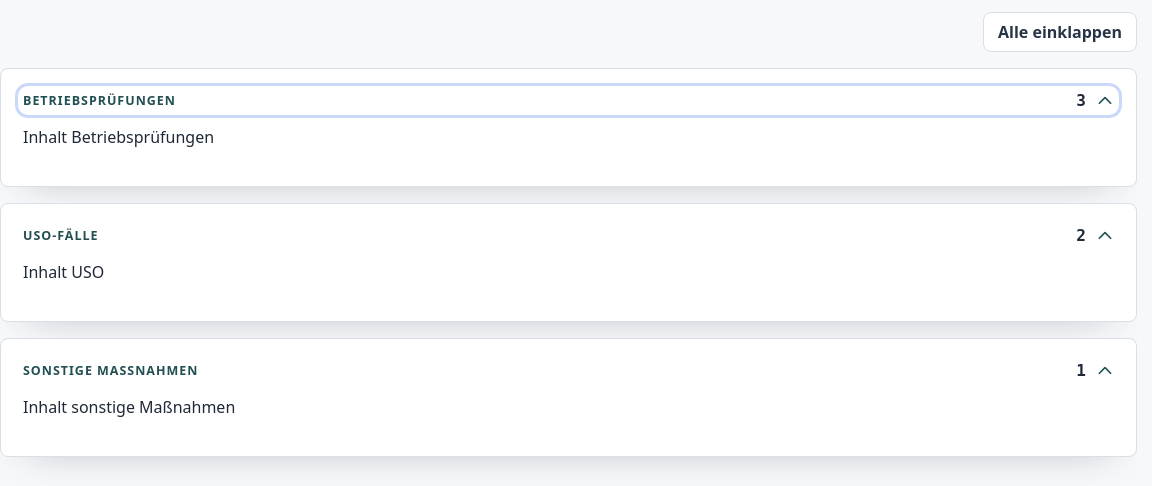
Scenario: CollapsiblePointLists › toggles one list by pointer and keyboard-generated activation while its heading remains visible
Click the button with aria-label "Betriebsprüfungen einklappen" at x=99, y=100, box [23,91,1114,110]
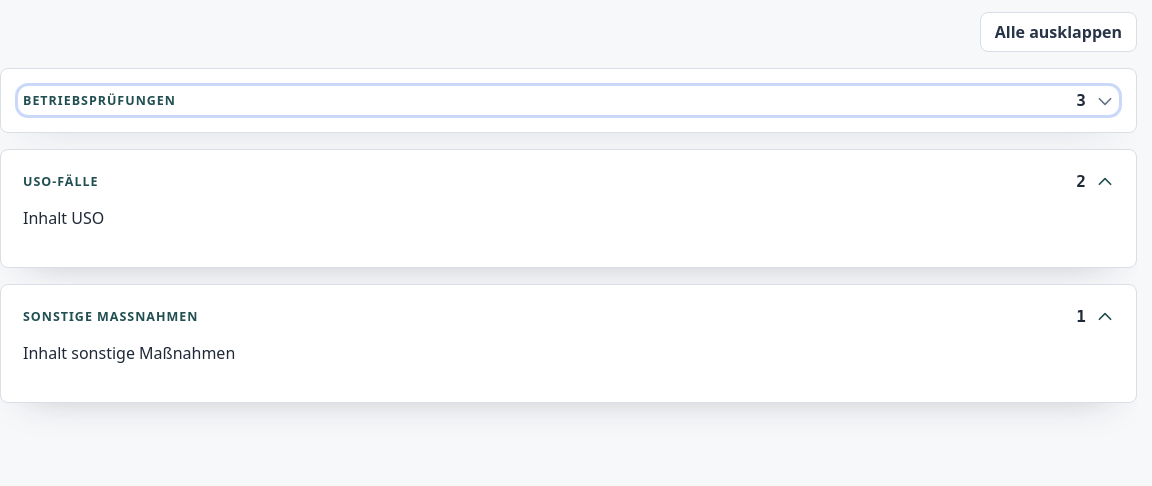
Expected: the button with aria-label "Betriebsprüfungen ausklappen" is collapsed
Click the button with aria-label "Betriebsprüfungen ausklappen" at x=99, y=100, box [23,91,1114,110]
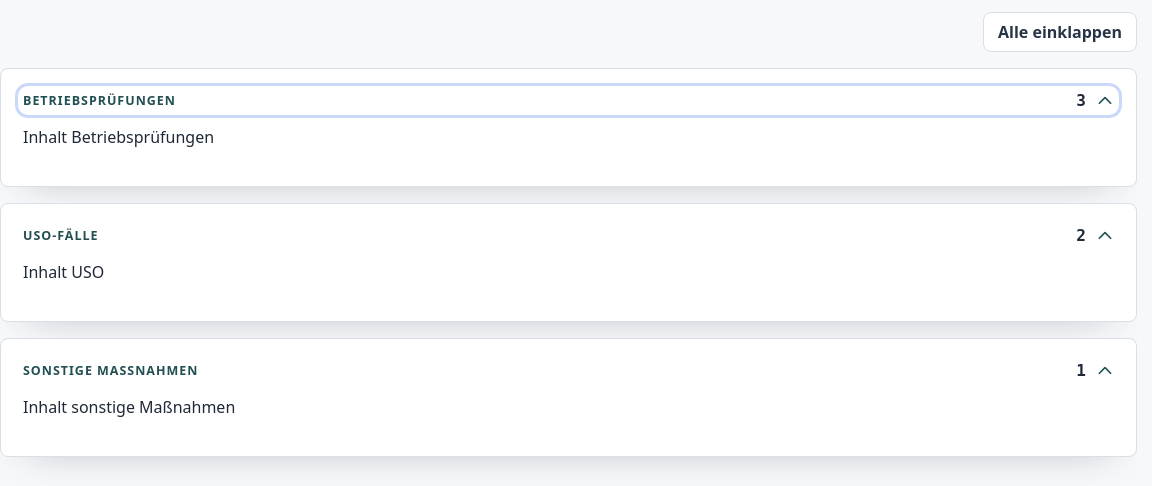
Expected: the button with aria-label "Betriebsprüfungen einklappen" is expanded, [23,91,1114,110]
